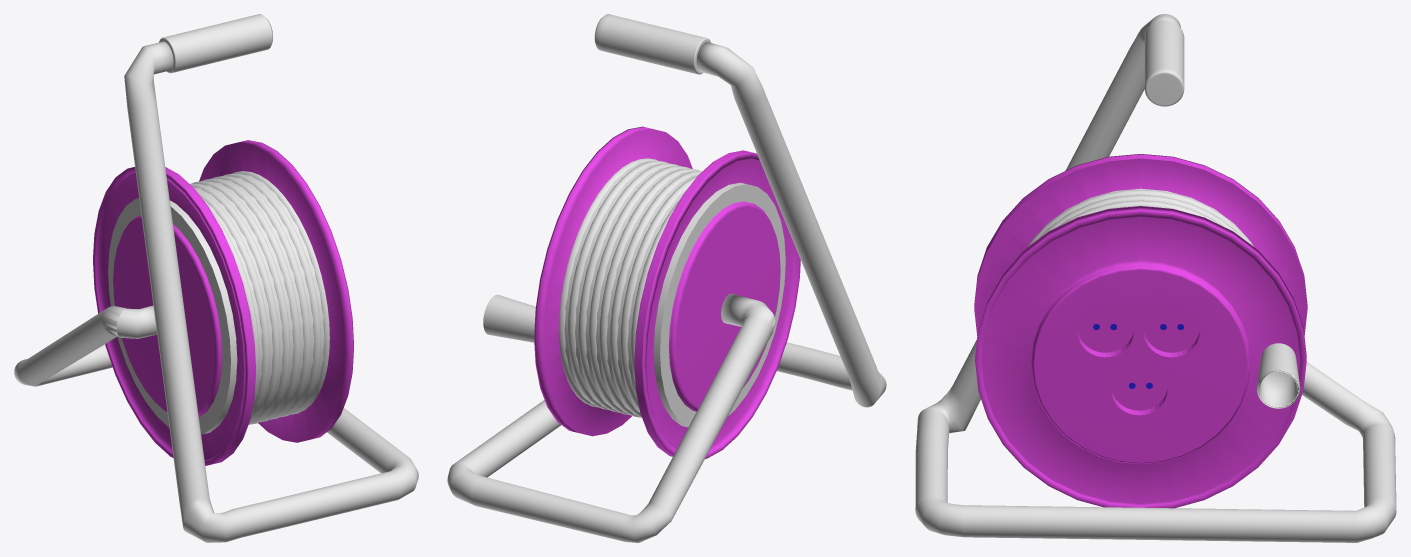
The model's file is Kabeltrommel_Objekte_lowPoly .fbx.
3 views of the same model, side by side, from view 1: azimuth 30°, elevation 25°; view 2: azimuth 150°, elevation 25°; view 3: azimuth 270°, elevation 25° (orthographic). The views are drawn at different scales.
Parts seen in each view (by area): view 1: Cylinder, highPoly; view 2: Cylinder, highPoly; view 3: Cylinder, highPoly.
Boxes of the visible parts, <box> form: Cylinder: <box>14,14,418,542</box>; highPoly: <box>108,173,324,434</box>; Cylinder: <box>447,14,886,542</box>; highPoly: <box>564,161,785,427</box>; Cylinder: <box>915,14,1396,542</box>; highPoly: <box>1029,188,1252,244</box>.
Bounding box in the file's own units: 148 × 246 × 241.
